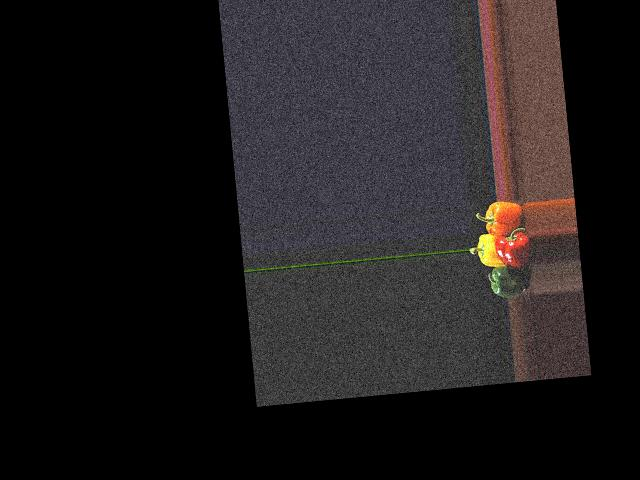bell_pepper: (479, 198, 530, 238)
